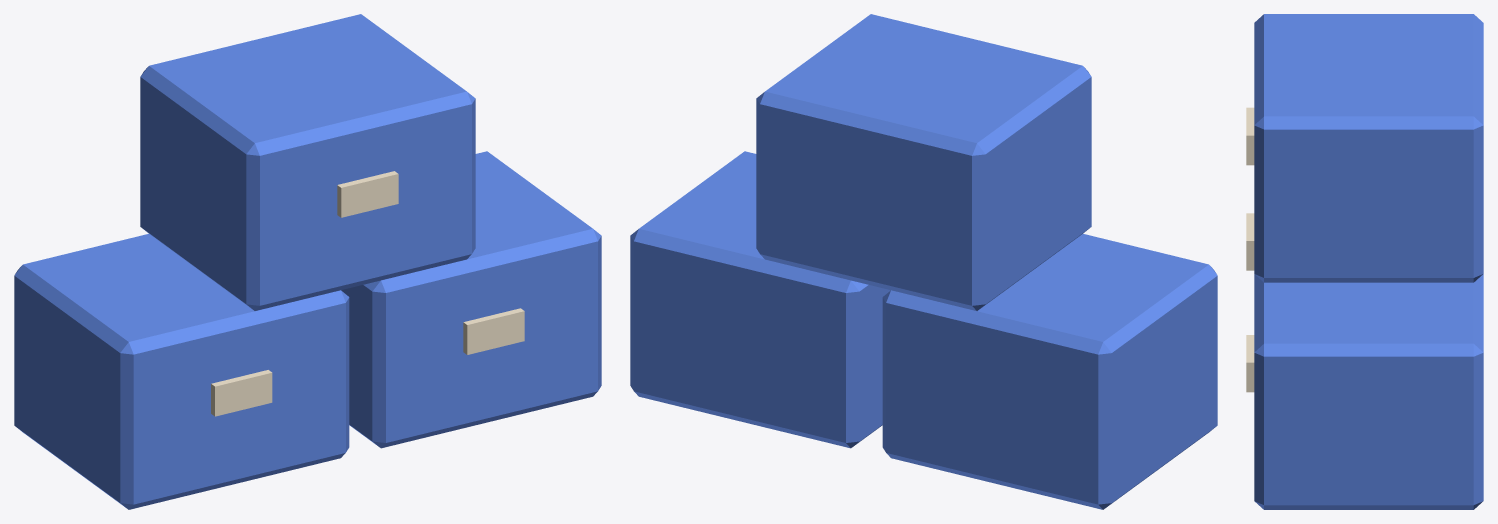
3 renders of one model, left to right at view 1: azimuth 30°, elevation 25°; view 2: azimuth 150°, elevation 25°; view 3: azimuth 270°, elevation 25°, orthographic.
Parts seen in each view (by area): view 1: Stacked case.002, Stacked case, Stacked case.001, Case label.002, Case label.001, Case label; view 2: Stacked case.002, Stacked case, Stacked case.001; view 3: Stacked case.002, Stacked case.001, Case label.002, Case label, Case label.001.
Part boxes in pixels (box(x1,y1,x2,y2)): Stacked case.002: box(140, 14, 475, 310); Stacked case: box(14, 234, 349, 509); Stacked case.001: box(341, 151, 601, 448); Case label.002: box(337, 171, 398, 217); Case label.001: box(463, 308, 524, 354); Case label: box(211, 370, 272, 416); Stacked case.002: box(756, 14, 1091, 310); Stacked case: box(882, 234, 1217, 509); Stacked case.001: box(630, 151, 890, 448); Stacked case.002: box(1254, 14, 1483, 282); Stacked case.001: box(1254, 274, 1483, 509); Case label.002: box(1246, 107, 1254, 165); Case label: box(1246, 213, 1254, 270); Case label.001: box(1246, 335, 1254, 392).
Size of the model in its own units: 0.84 by 0.56 by 0.362.
1 material, 1 textured.
